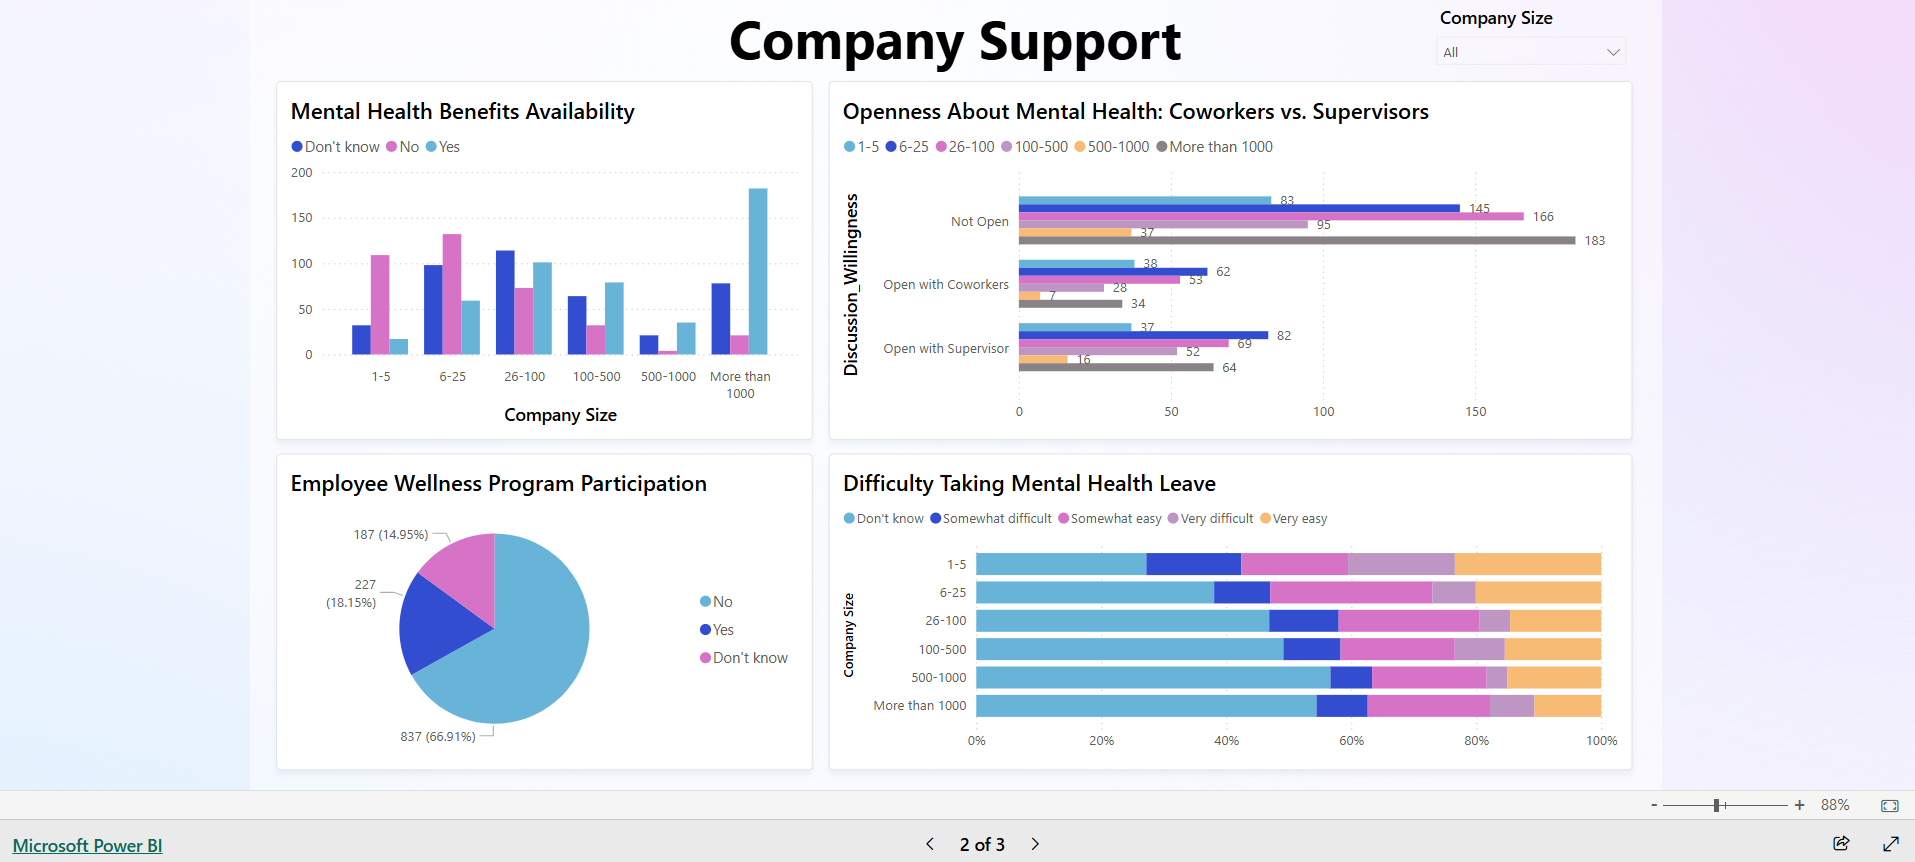

Layout of this report page (visuals, bound fields, positions):
{"tool":"powerbi","page":{"name":"Company Support","canvas":[1280,720],"ordinal":1},"visuals":[{"type":"clusteredColumnChart","title":"Mental Health Benefits Availability","fields":{"Y":["survey.Measure: Total Respondents"],"Series":["survey.Mental Health Benefits"],"Category":["CompanySizeTable.Company Size"]},"box":[24.1,77.2,486.2,325.7],"z":0},{"type":"pieChart","title":"Employee Wellness Program Participation","fields":{"Category":["survey.Wellness Program"],"Y":["survey.Measure: Total Respondents"]},"box":[24.1,415,486.2,287.1],"z":1000},{"type":"clusteredBarChart","title":"Openness About Mental Health: Coworkers vs. Supervisors","fields":{"Category":["survey.Discussion_Willingness"],"Y":["survey.Measure: Total Respondents"],"Series":["CompanySizeTable.Company Size"]},"box":[524.8,77.2,728.7,325.7],"z":2000},{"type":"hundredPercentStackedBarChart","title":"Difficulty Taking Mental Health Leave","fields":{"Y":["survey.Measure: Total Respondents"],"Series":["survey.Ease of Leave"],"Category":["CompanySizeTable.Company Size"]},"box":[524.8,415,728.7,287.1],"z":3000},{"type":"slicer","fields":{"Values":["survey.Company Size"]},"box":[1071.3,8.4,182.2,61.5],"z":4000},{"type":"textbox","box":[418.6,0,442.8,77.2],"z":5000}]}

Visuals, with their boxes on the page's 1280x720 design canvas (x1, y1, x2, y2). These are canvas units, not pixel positions in the 1915x862 screenshot, which may show the page scaled, cropped or inside an application window:
"Mental Health Benefits Availability" clusteredColumnChart: {"x1": 24, "y1": 77, "x2": 510, "y2": 403}
"Employee Wellness Program Participation" pieChart: {"x1": 24, "y1": 415, "x2": 510, "y2": 702}
"Openness About Mental Health: Coworkers vs. Supervisors" clusteredBarChart: {"x1": 525, "y1": 77, "x2": 1254, "y2": 403}
"Difficulty Taking Mental Health Leave" hundredPercentStackedBarChart: {"x1": 525, "y1": 415, "x2": 1254, "y2": 702}
slicer - survey.Company Size: {"x1": 1071, "y1": 8, "x2": 1254, "y2": 70}
textbox: {"x1": 419, "y1": 0, "x2": 861, "y2": 77}
